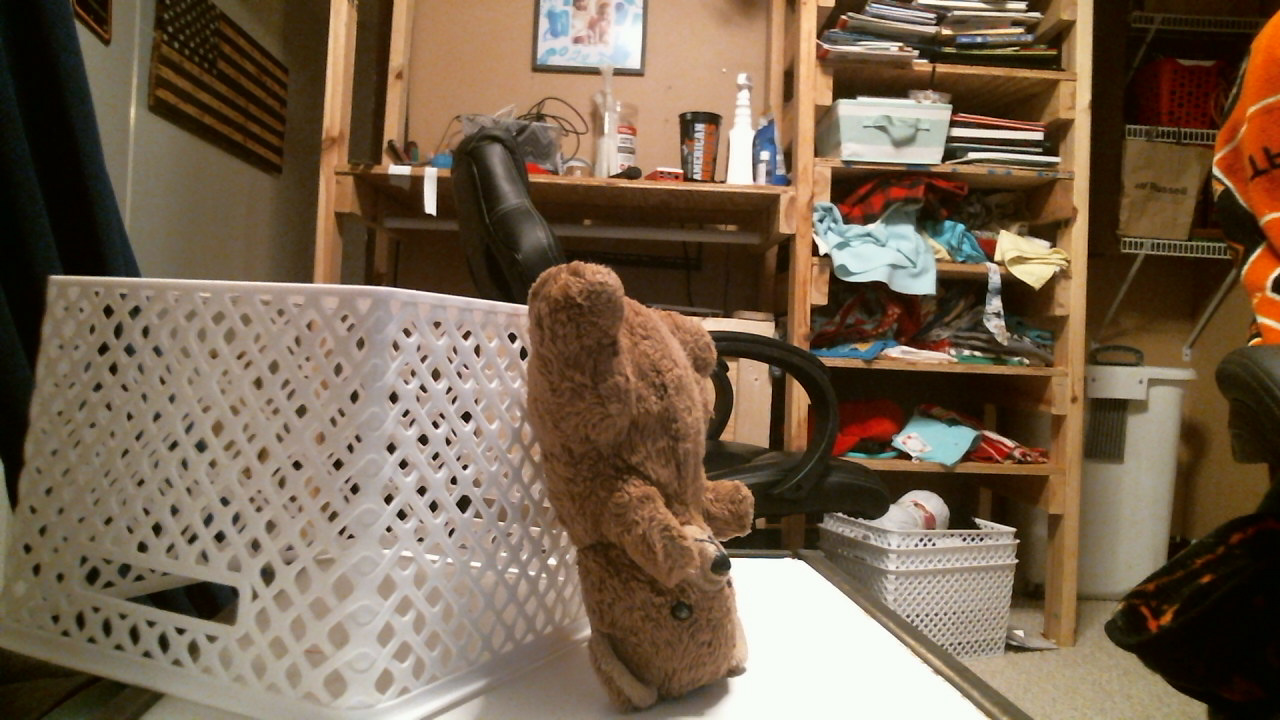Little_Mister_Bear: (662, 535, 738, 638)
